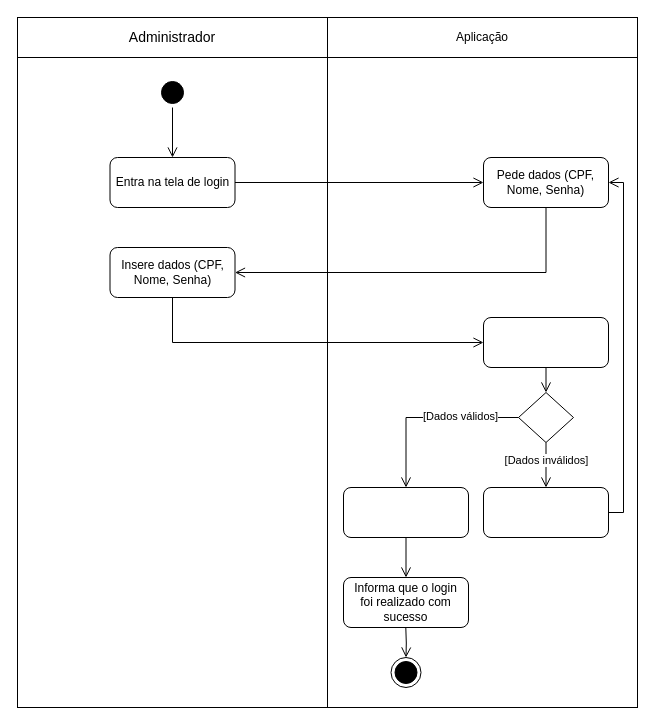
This 655x725 diagram has some shape labels left out. Each missing label, with the box of its shape:
Informa que os dados são inválidos: (482, 486, 608, 538)
Realiza login com os dados: (342, 486, 468, 538)
Valida dados: (482, 316, 608, 368)
